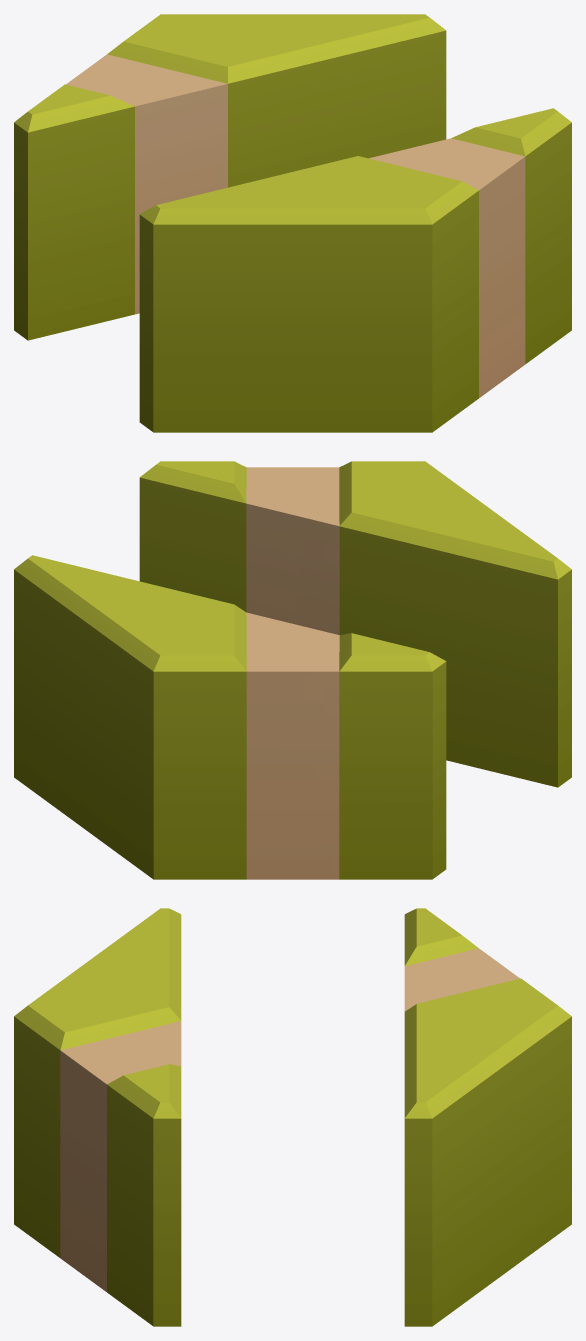
File: kaykit-medieval-hexagon-pack-hex-river-crossing-a-waterless.glb
3 renders of one model, top to bottom at view 1: azimuth 30°, elevation 25°; view 2: azimuth 150°, elevation 25°; view 3: azimuth 270°, elevation 25°, orthographic.
Parts seen in each view (by area): view 1: hex_river_crossing_A_waterless; view 2: hex_river_crossing_A_waterless; view 3: hex_river_crossing_A_waterless.
Boxes of the visible parts, bbox=[...] form: hex_river_crossing_A_waterless: bbox=[14, 14, 571, 432]; hex_river_crossing_A_waterless: bbox=[14, 461, 571, 879]; hex_river_crossing_A_waterless: bbox=[14, 908, 571, 1326].
Size of the model in its own units: 2 by 1 by 2.31.
1 material, 1 textured.
